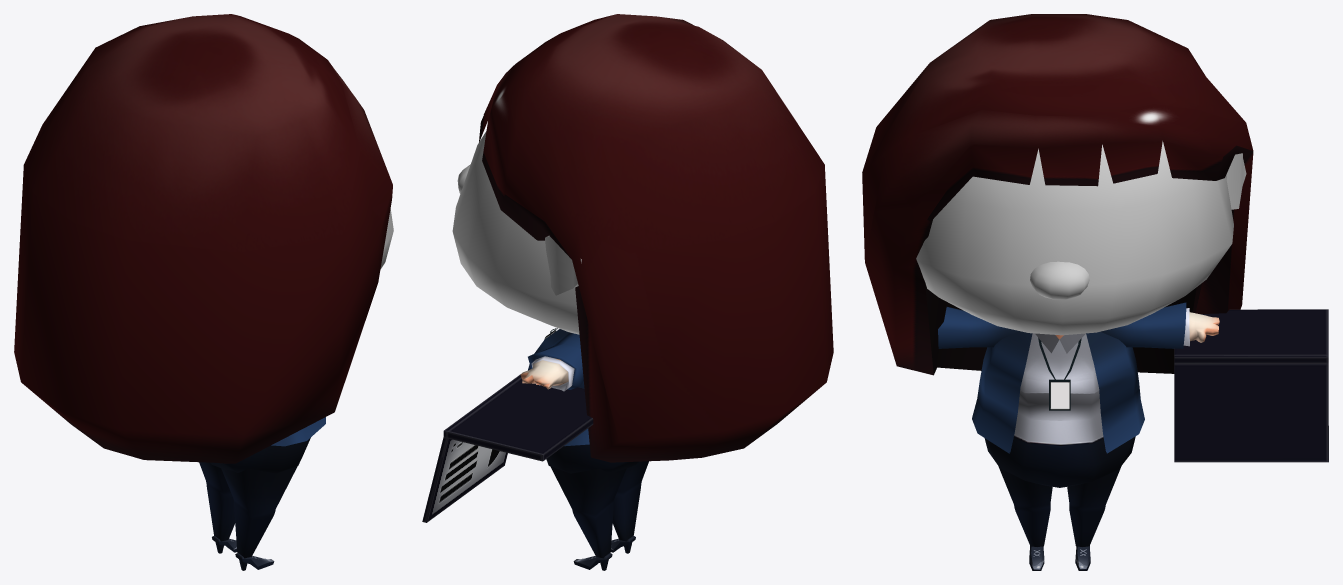
Rendered from Char_Sci_Math_03.fbx.
3 views of the same model, side by side, from view 1: azimuth 30°, elevation 25°; view 2: azimuth 150°, elevation 25°; view 3: azimuth 270°, elevation 25° (orthographic).
Visible parts, largest first — view 1: Hair_Actuarist, R_Leg_Actuarist, L_Leg_Actuarist, Body_Actuarist, Outlet_Vest_Actuarist; view 2: Hair_Actuarist, Laptop_Actuarist, Head_Actuarist, L_Leg_Actuarist, L_Arm_Actuarist, R_Leg_Actuarist, Body_Actuarist, L_Ear_Actuarist, Outlet_Vest_Actuarist; view 3: Hair_Actuarist, Head_Actuarist, Laptop_Actuarist, Body_Actuarist, Outlet_Vest_Actuarist, L_Arm_Actuarist, R_Leg_Actuarist, L_Leg_Actuarist, R_Arm_Actuarist, Nose_Actuarist, Tag_Actuarist, L_Ear_Actuarist.
Boxes of the visible parts, x1=… form: Hair_Actuarist: x1=14, y1=14, x2=392, y2=463; R_Leg_Actuarist: x1=221, y1=463, x2=298, y2=570; L_Leg_Actuarist: x1=199, y1=462, x2=237, y2=553; Body_Actuarist: x1=210, y1=437, x2=310, y2=473; Outlet_Vest_Actuarist: x1=271, y1=417, x2=325, y2=446; Hair_Actuarist: x1=479, y1=14, x2=833, y2=462; Laptop_Actuarist: x1=422, y1=374, x2=593, y2=522; Head_Actuarist: x1=452, y1=131, x2=579, y2=334; L_Leg_Actuarist: x1=549, y1=463, x2=626, y2=570; L_Arm_Actuarist: x1=520, y1=332, x2=583, y2=391; R_Leg_Actuarist: x1=610, y1=461, x2=648, y2=553; Body_Actuarist: x1=546, y1=444, x2=638, y2=473; L_Ear_Actuarist: x1=545, y1=235, x2=581, y2=295; Outlet_Vest_Actuarist: x1=528, y1=329, x2=589, y2=446; Hair_Actuarist: x1=862, y1=14, x2=1253, y2=375; Head_Actuarist: x1=916, y1=141, x2=1233, y2=335; Laptop_Actuarist: x1=1174, y1=309, x2=1328, y2=462; Body_Actuarist: x1=984, y1=333, x2=1135, y2=487; Outlet_Vest_Actuarist: x1=972, y1=331, x2=1144, y2=453; L_Arm_Actuarist: x1=1101, y1=302, x2=1219, y2=348; R_Leg_Actuarist: x1=998, y1=464, x2=1052, y2=570; L_Leg_Actuarist: x1=1067, y1=464, x2=1121, y2=570; R_Arm_Actuarist: x1=938, y1=307, x2=1018, y2=348; Nose_Actuarist: x1=1030, y1=261, x2=1089, y2=299; Tag_Actuarist: x1=1038, y1=338, x2=1081, y2=410; L_Ear_Actuarist: x1=1226, y1=153, x2=1246, y2=209.
Bounding box in the file's own units: 4.71 × 6.89 × 5.63.
